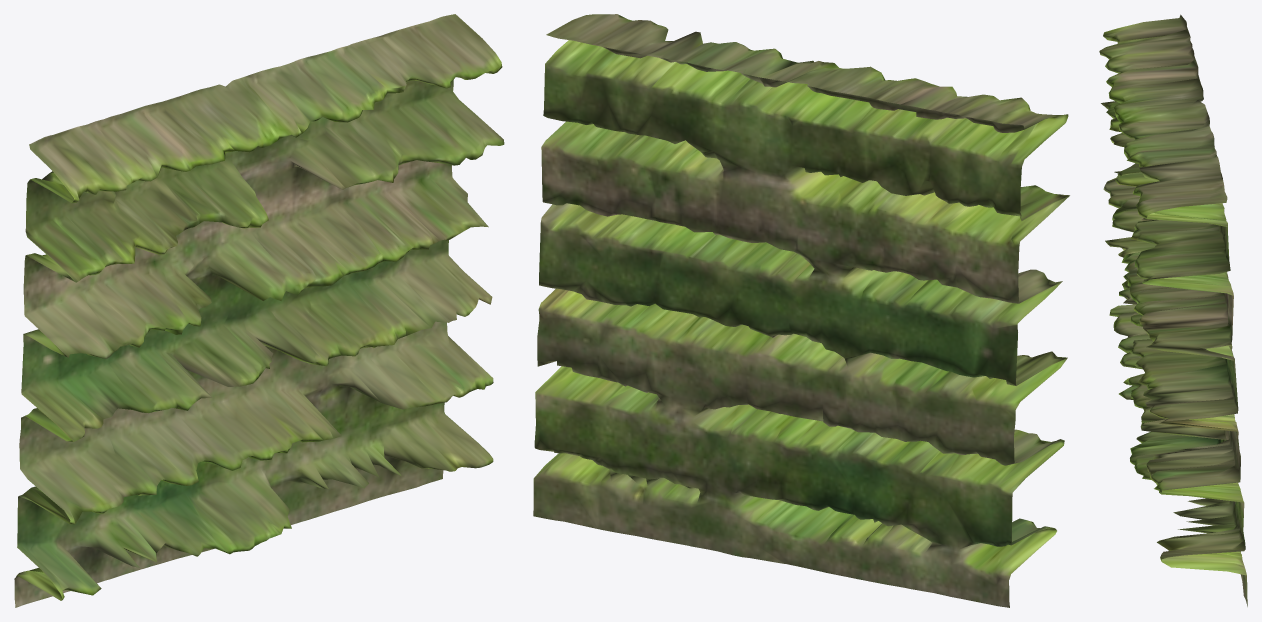
File: map_180_60.obj
The picture shows the model from 3 angles, left to right: view 1: azimuth 30°, elevation 25°; view 2: azimuth 150°, elevation 25°; view 3: azimuth 270°, elevation 25°; orthographic projection. The views are drawn at different scales.
Visible parts, largest first — view 1: map_180_60.obj; view 2: map_180_60.obj; view 3: map_180_60.obj.
Boxes of the visible parts, x1,y1,x2,y2 form: map_180_60.obj: (14,14,504,607); map_180_60.obj: (533,14,1069,607); map_180_60.obj: (1099,14,1247,606).
Bounding box in the file's own units: 10 × 10 × 3.32.
Materials: 1 (1 with a texture image).
